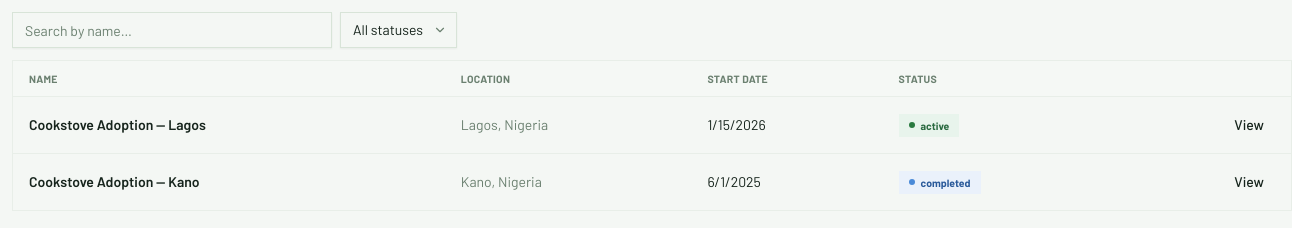
Test case: ProjectsTable › filters by search term across project name
Type "Kano" into the field with placeholder "Search by name…".
click(172, 30); type("Kano")  # box [12, 12, 332, 48]
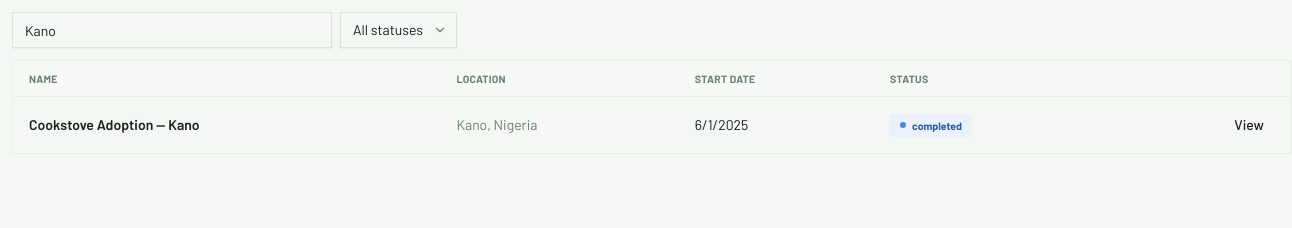
Expected: the text "Cookstove Adoption — Kano" is shown, [29, 116, 200, 133]
Now the text "Cookstove Adoption — Lagos" is gone
